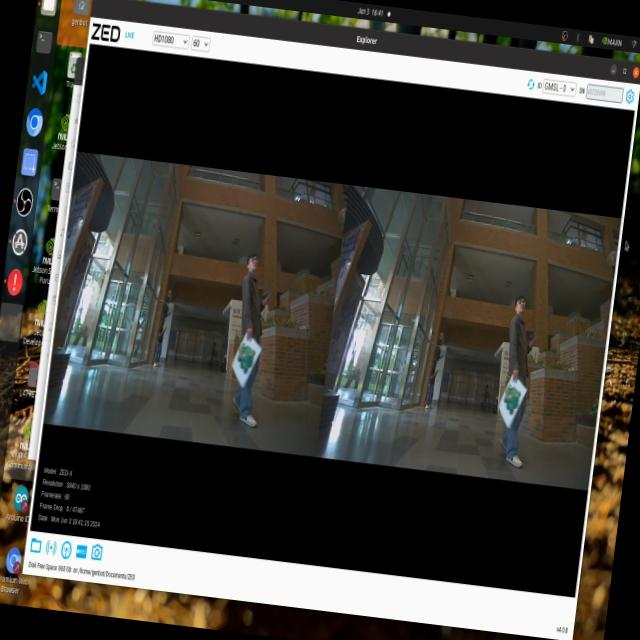green: (228, 338, 260, 379), (501, 372, 524, 418)
